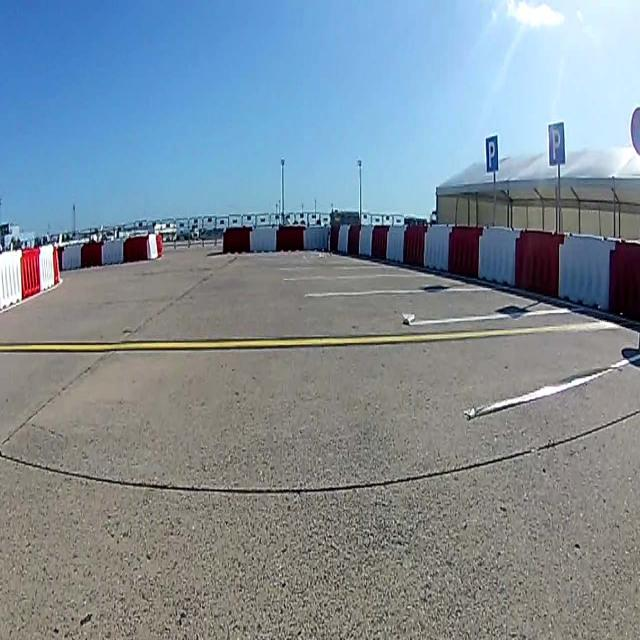park: (547, 122, 565, 164), (485, 135, 498, 173)
parkyasak: (630, 106, 640, 158)
